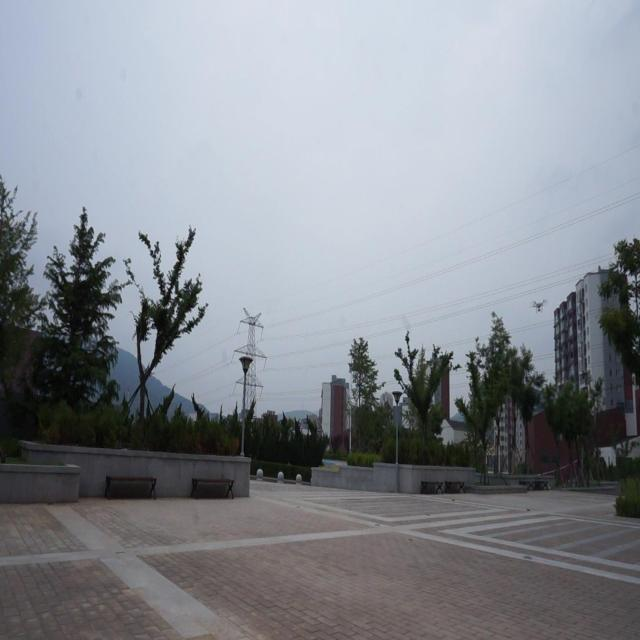drone: (528, 295, 546, 317)
